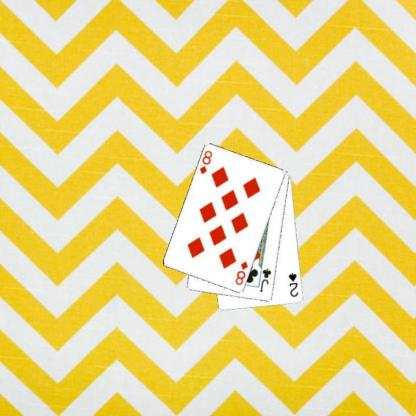2S: (286, 271, 300, 298)
8D: (197, 148, 214, 176), (232, 259, 249, 286)
JC: (257, 266, 273, 294)
